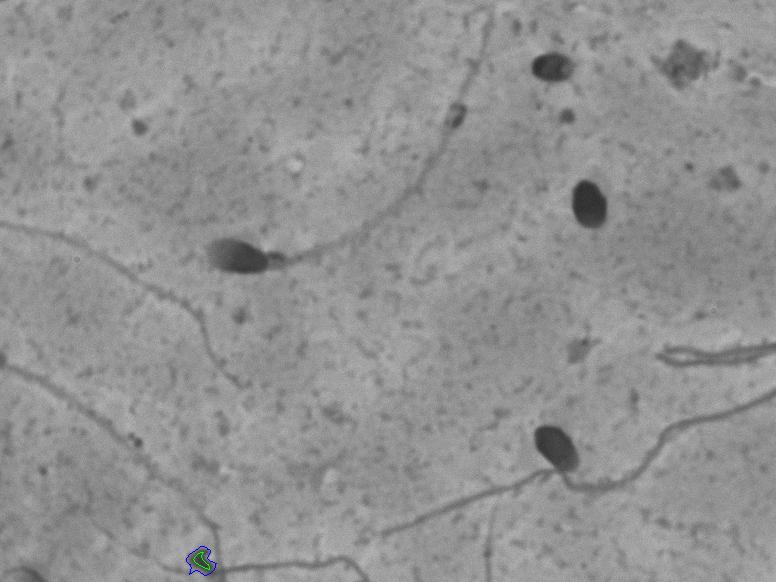Abnormal: (191, 28, 489, 307), (499, 351, 743, 512)
